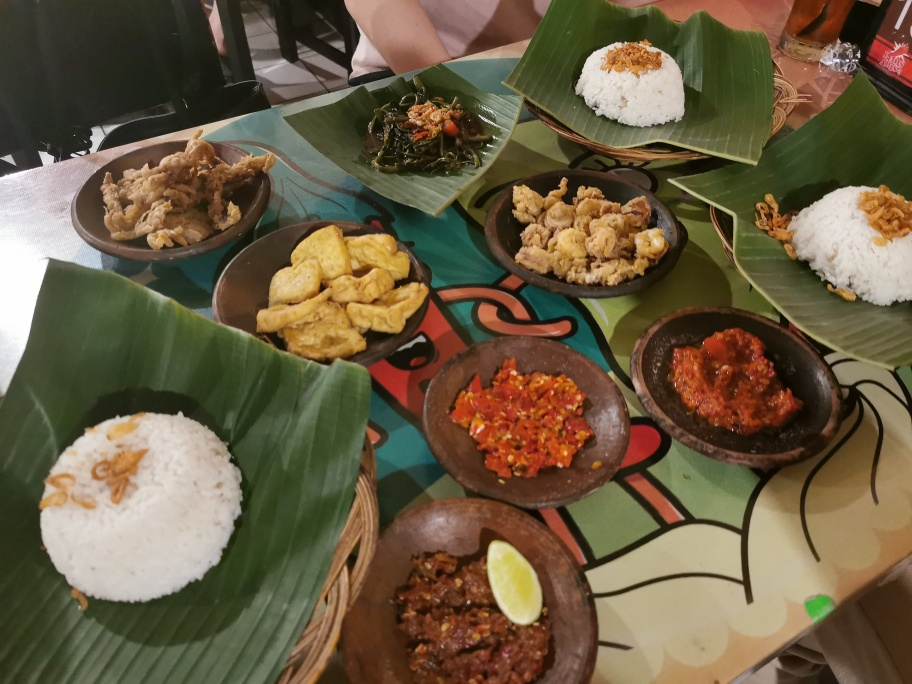nasi putih: (39, 408, 243, 603), (577, 37, 686, 129)
